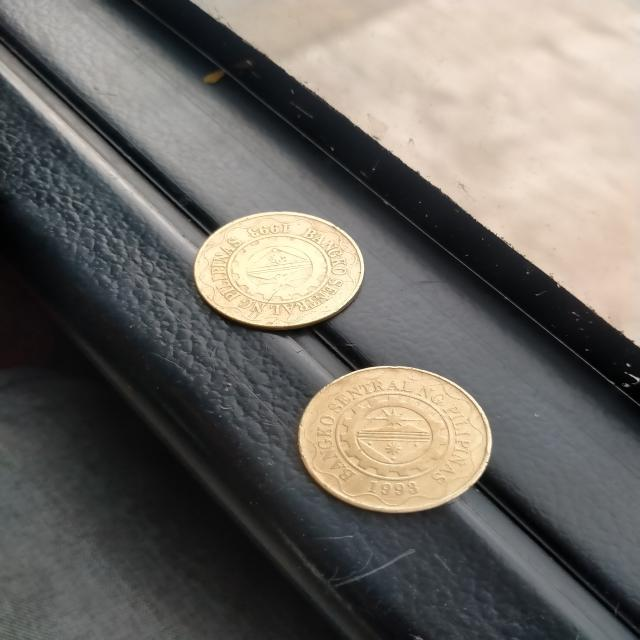5_Old_Back: (282, 360, 492, 520), (188, 210, 368, 329)
